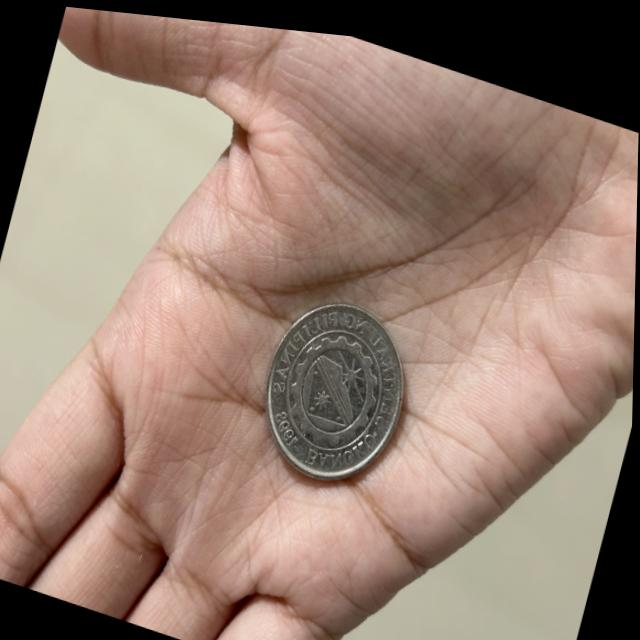1_Old_Back: (267, 309, 393, 457)
